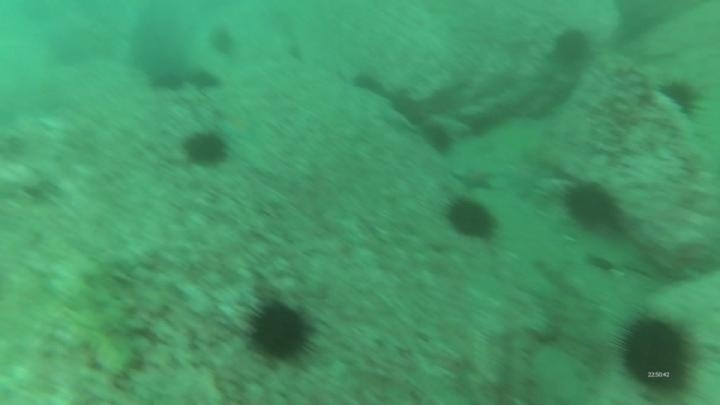echinus: (613, 309, 701, 398), (242, 295, 319, 365), (560, 178, 623, 233), (444, 196, 500, 243), (180, 128, 231, 170), (656, 76, 705, 119), (550, 26, 594, 69), (388, 90, 426, 127), (421, 121, 457, 157), (146, 66, 188, 95), (206, 25, 239, 58), (350, 69, 386, 99), (186, 66, 223, 94)
starfish: (217, 107, 262, 145), (451, 164, 498, 194)
